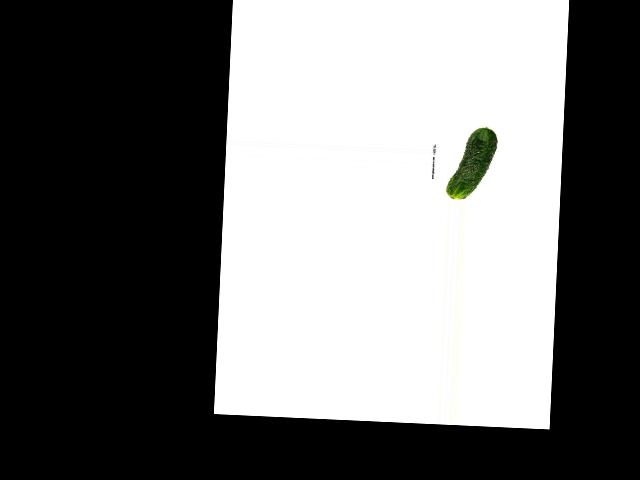cucumber: (445, 125, 497, 200)
